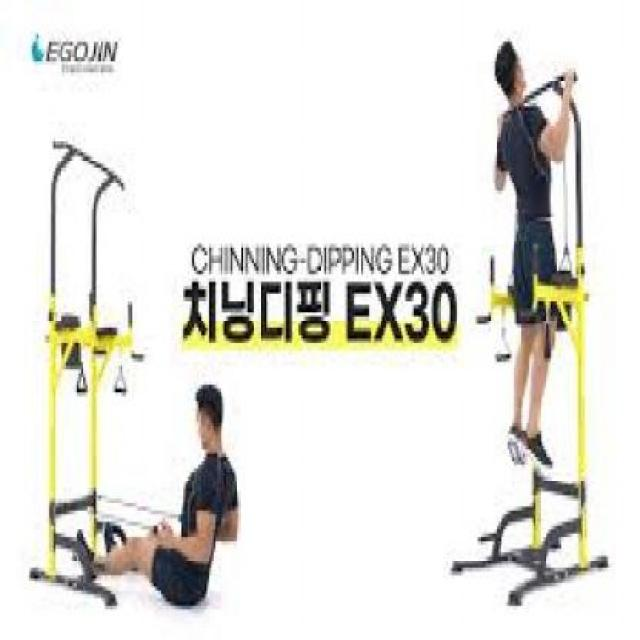chinning dipping: (462, 66, 609, 606), (30, 138, 144, 611)
